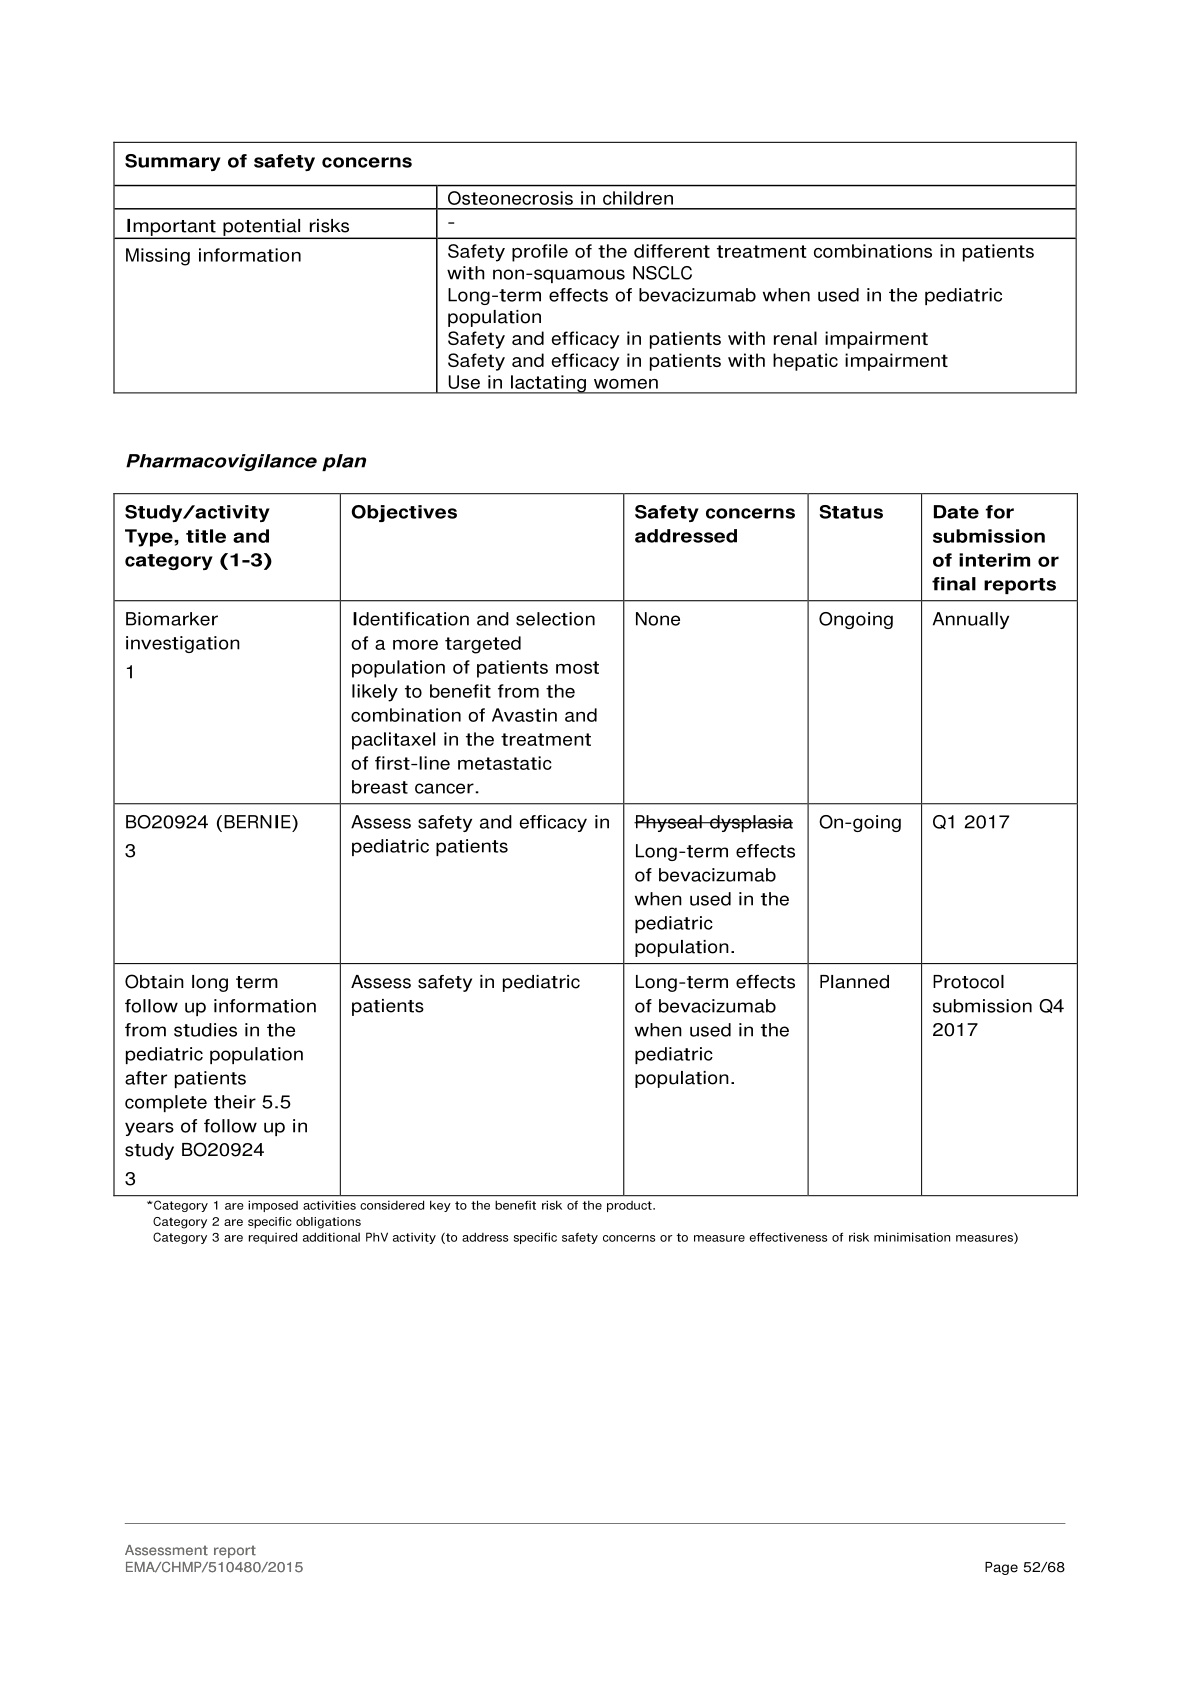full_lined: (113, 491, 1079, 1196)
merged_cells: (112, 140, 1078, 394)
